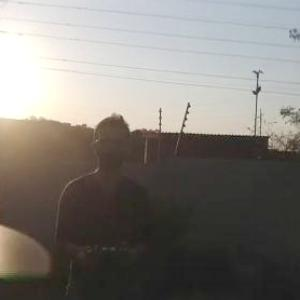follow: (49, 109, 157, 299)
